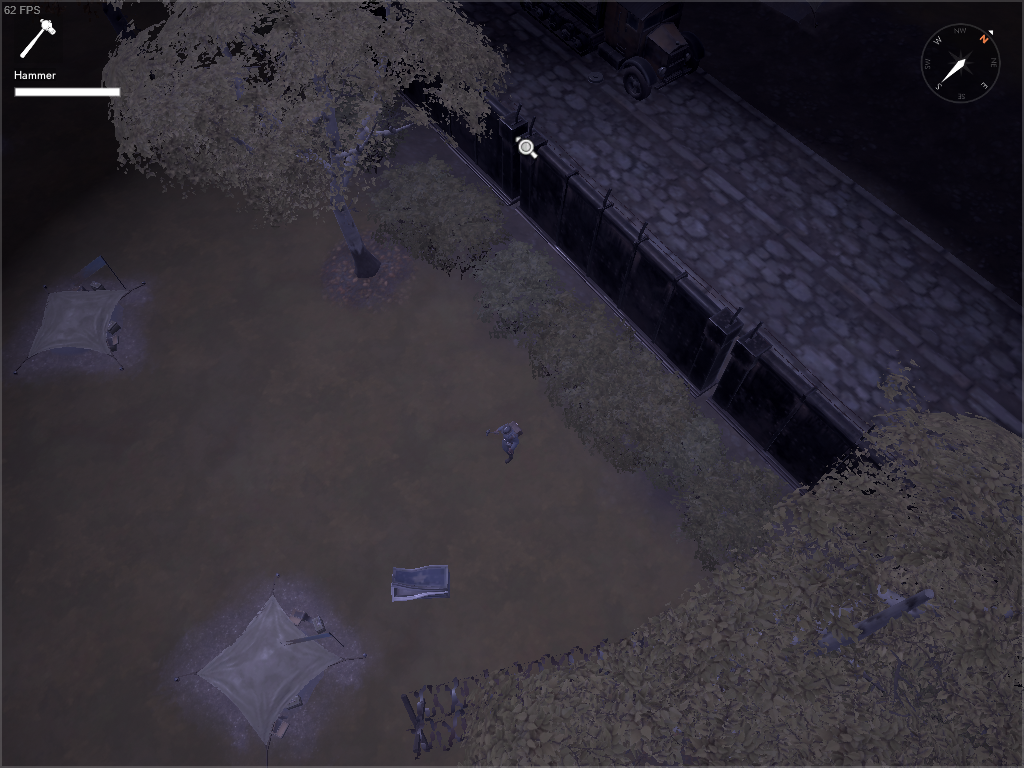flatbed: (525, 1, 705, 101)
fortified_wall: (512, 114, 749, 403), (703, 315, 929, 524), (370, 5, 537, 209)
foxhole: (168, 569, 378, 768), (10, 253, 154, 382), (757, 1, 835, 37)
player: (481, 414, 528, 465)
storage_box: (388, 563, 453, 607)
wire: (396, 620, 738, 763), (296, 85, 390, 173)
